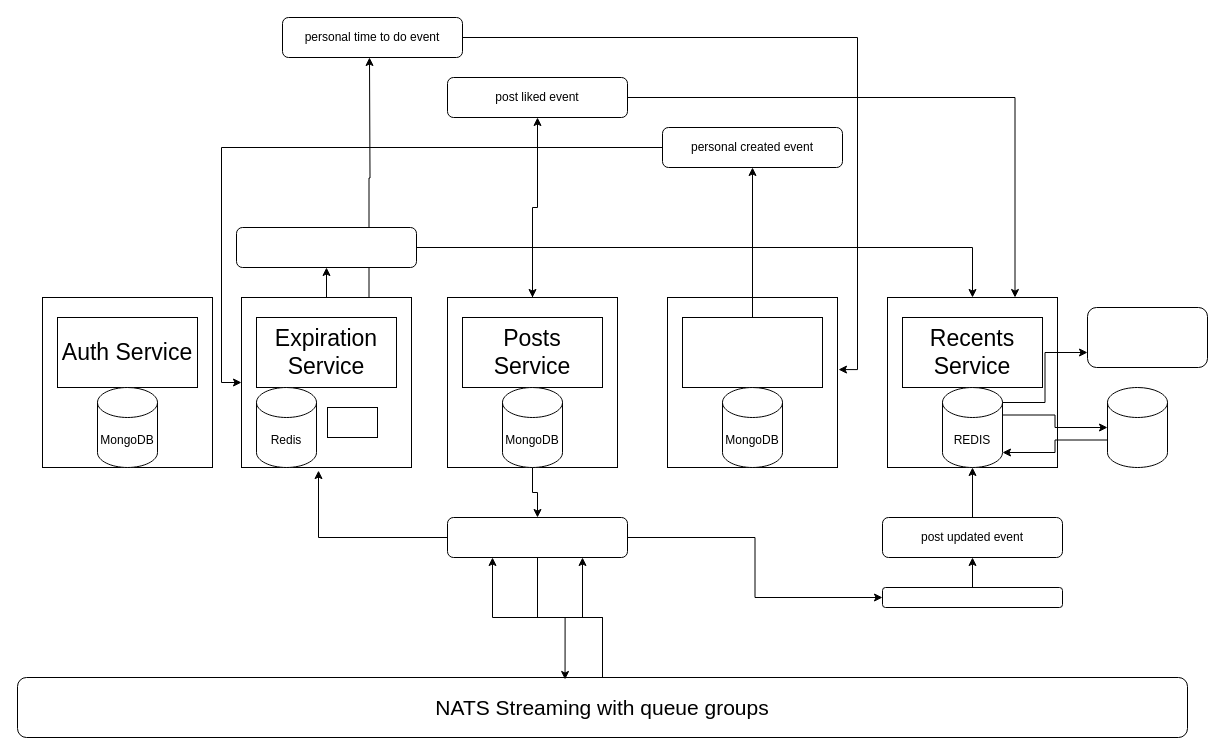
This 1225x755 diagram has some shape labels left out. Here are the shapes that lost their labels. From the top down, the centre of each, then its label:
At (326,247): "post expired event".
At (752,352): "Personal Service".
At (1147,337): "ZSET LIST HSET".
At (352,422): "Bull js".
At (1137,427): "Postgress".
At (537,537): "post created event".
At (972,597): "post deleted event".
